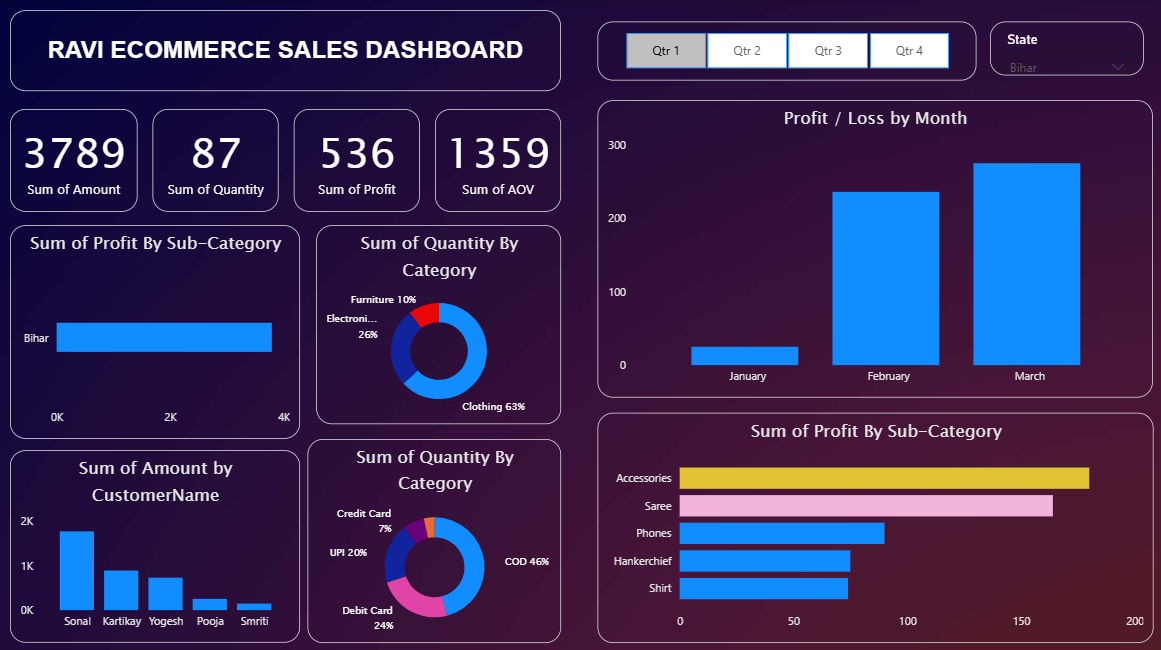

What the dashboard file says about the page in this screenshot:
{"tool":"powerbi","page":{"name":"Page 1","canvas":[1280,720],"ordinal":0},"visuals":[{"type":"columnChart","title":" Profit / Loss by Month","fields":{"Category":["Orders.Order Date.Variation.Date Hierarchy.Month"],"Y":["Sum(Details.Profit)"]},"box":[655.9,111.1,609.3,326.6],"z":0},{"type":"barChart","title":"Sum of Profit By Sub-Category","fields":{"Y":["Sum(Details.Profit)"],"Category":["Details.Sub-Category"]},"box":[655.9,454.2,610.6,252.5],"z":1000},{"type":"donutChart","title":"Sum of Quantity By Category","fields":{"Y":["Sum(Details.Quantity)"],"Category":["Details.Category"]},"box":[347.2,248.4,269,218.2],"z":2000},{"type":"donutChart","title":"Sum of Quantity By Category","fields":{"Y":["Sum(Details.Quantity)"],"Category":["Details.PaymentMode"]},"box":[337.6,483,278.6,223.7],"z":3000},{"type":"card","title":"Sum of Quantity By Category","fields":{"Values":["Sum(Details.Amount)"]},"box":[11,120.8,140,112.5],"z":4000},{"type":"card","title":"Sum of Quantity By Category","fields":{"Values":["Sum(Details.Quantity)"]},"box":[167,120.8,138.6,112.5],"z":5000},{"type":"card","title":"Sum of Quantity By Category","fields":{"Values":["Sum(Details.Profit)"]},"box":[322,120.8,138.6,112.5],"z":6000},{"type":"card","title":"Sum of Quantity By Category","fields":{"Values":["Sum(Details.AOV)"]},"box":[477.5,120.8,138.6,112.5],"z":7000},{"type":"barChart","title":"Sum of Profit By Sub-Category","fields":{"Category":["Orders.State"],"Y":["Sum(Details.Amount)"]},"box":[11,248.4,318.4,234.6],"z":8000},{"type":"columnChart","fields":{"Category":["Orders.CustomerName"],"Y":["Sum(Details.Amount)"]},"box":[11,495.4,318.4,211.3],"z":9000},{"type":"textbox","box":[11,12.3,605.1,89.2],"z":10000},{"type":"slicer","fields":{"Values":["Orders.Order Date.Variation.Date Hierarchy.Quarter"]},"box":[655.9,24.7,415.8,64.5],"z":11000},{"type":"slicer","fields":{"Values":["Orders.State"]},"box":[1086.8,24.7,168.8,59],"z":12000}]}

Visuals, with their boxes in screenshot pixels (x1, y1, x2, y2), scaled from the page's 1280x720 canvas onto the 1161x650 screenshot:
" Profit / Loss by Month" columnChart: 595/100/1148/395
"Sum of Profit By Sub-Category" barChart: 595/410/1149/638
"Sum of Quantity By Category" donutChart: 315/224/559/421
"Sum of Quantity By Category" donutChart: 306/436/559/638
"Sum of Quantity By Category" card: 10/109/137/211
"Sum of Quantity By Category" card: 151/109/277/211
"Sum of Quantity By Category" card: 292/109/418/211
"Sum of Quantity By Category" card: 433/109/559/211
"Sum of Profit By Sub-Category" barChart: 10/224/299/436
columnChart - Orders.CustomerName x Sum(Details.Amount): 10/447/299/638
textbox: 10/11/559/92
slicer - Orders.Order Date.Variation.Date Hierarchy.Quarter: 595/22/972/81
slicer - Orders.State: 986/22/1139/76
